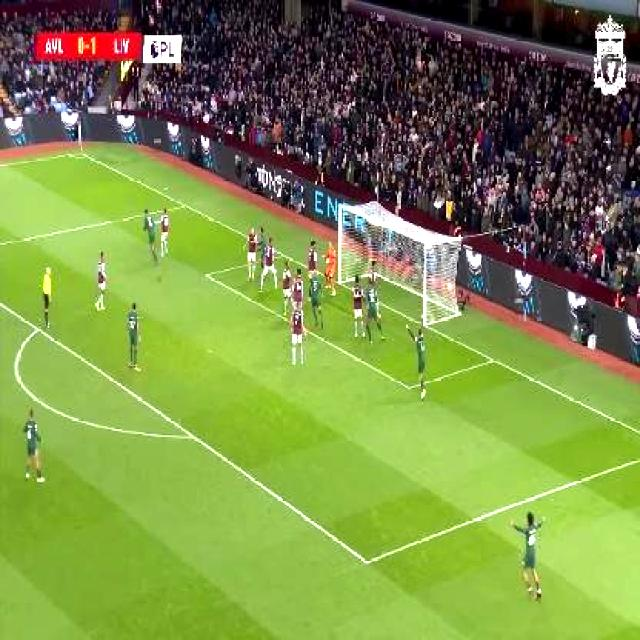bigarea_bottom_inner: (354, 544, 377, 578)
bigarea_top_outter: (177, 195, 191, 214)
bottom_arc_area_intersection: (183, 423, 202, 448)
corner: (68, 145, 89, 160)
smallarea_bottom_inner: (398, 372, 418, 398)
smallarea_bottom_outter: (483, 346, 502, 371)
smallarea_top_inner: (198, 263, 214, 283)
smallarea_top_outter: (274, 244, 288, 262)
top_arc_area_intersection: (28, 317, 44, 338)
